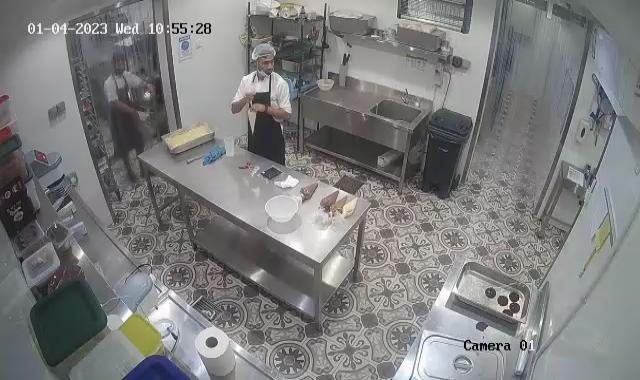hairnet: (250, 42, 278, 67)
